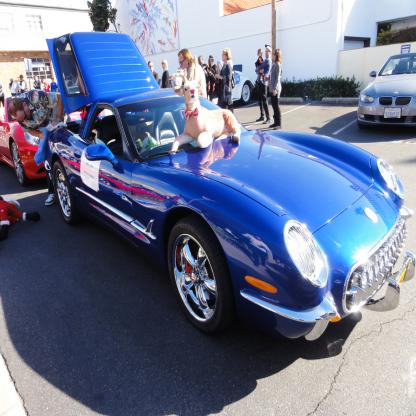Car: (44, 29, 415, 341), (357, 52, 415, 133), (0, 95, 48, 184), (208, 70, 254, 105)
